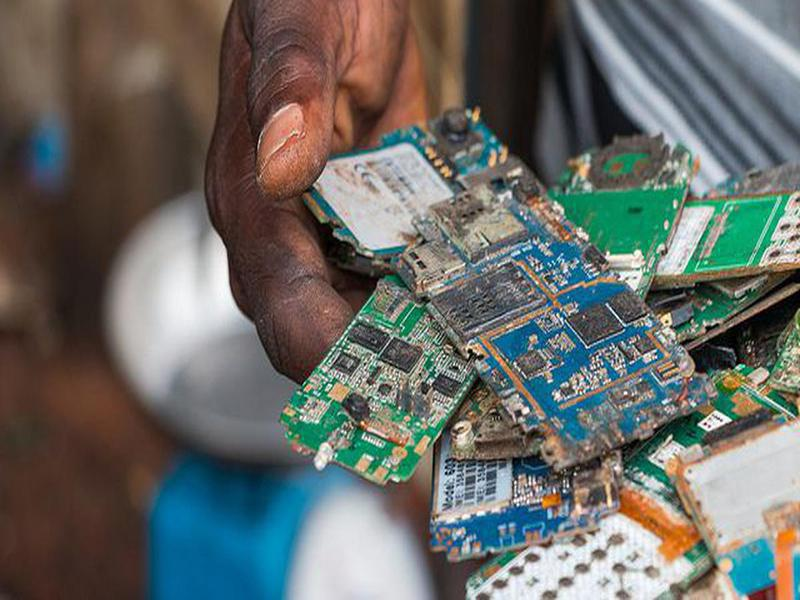circuit_board: (393, 180, 714, 471), (276, 273, 477, 489), (308, 105, 520, 256), (637, 164, 800, 297)
